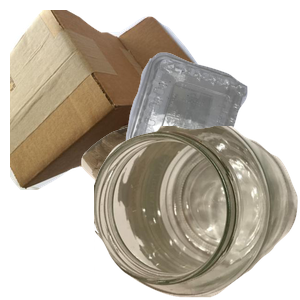cardboard: (10, 10, 206, 190)
glass: (94, 126, 300, 300)
plastic: (123, 50, 300, 214)
trash: (79, 123, 281, 300)
